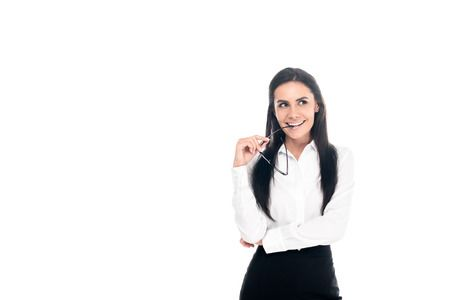F_shirt: (231, 139, 357, 255)
F_tailored skirt: (236, 239, 339, 300)
